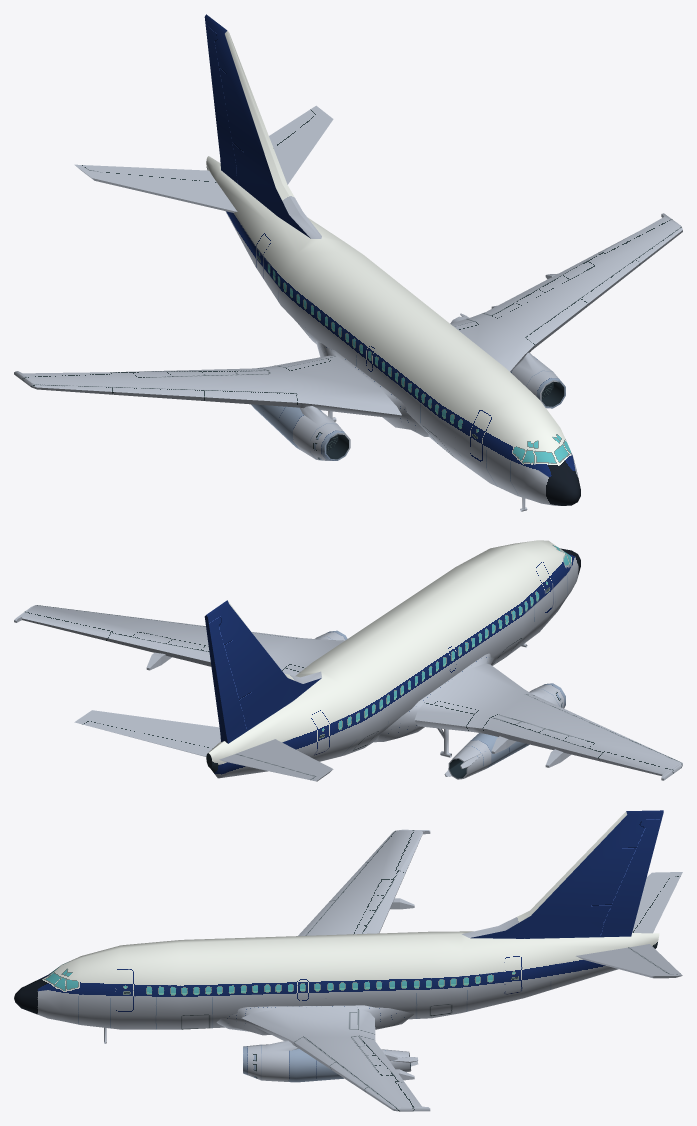
The model's file is boeing737100.glb.
The picture shows the model from 3 angles, top to bottom: view 1: azimuth 30°, elevation 25°; view 2: azimuth 150°, elevation 25°; view 3: azimuth 270°, elevation 25°; orthographic projection. The views are drawn at different scales.
Visible parts, largest first — view 1: Body; view 2: Body; view 3: Body.
Part boxes in pixels (x1,y1,x2,y2): Body: (14,14,682,505); Body: (14,540,682,781); Body: (14,810,682,1111).
Bounding box in the file's own units: 28.27 × 10.98 × 28.64.
Materials: 1 (1 with a texture image).
